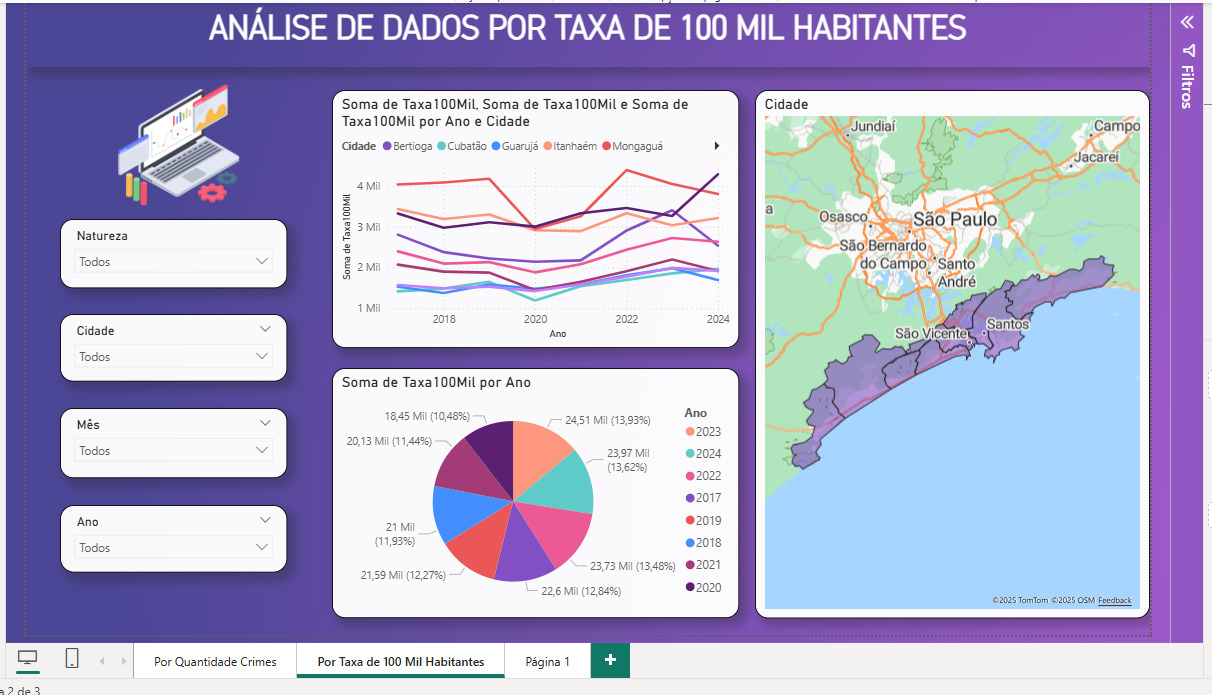

The dashboard page shown, as its layout file describes it:
{"tool":"powerbi","page":{"name":"Por Taxa de 100 Mil Habitantes","canvas":[1280,720],"ordinal":1},"visuals":[{"type":"azureMap","fields":{"Category":["BancoDeDados.Cidade"]},"box":[830.5,99.1,450,601.5],"z":0},{"type":"lineChart","fields":{"Series":["BancoDeDados.Cidade"],"Category":["Crimes.Ano"],"Y":["Sum(Crimes.Taxa100Mil)"]},"box":[348.6,99.1,463.7,293.9],"z":1000},{"type":"pieChart","fields":{"Category":["BancoDeDados.Ano","BancoDeDados.Natureza"],"Y":["Sum(Crimes.Taxa100Mil)"]},"box":[348.6,415.8,463.7,284.8],"z":2000},{"type":"slicer","fields":{"Values":["Crimes.Cidade"]},"box":[38.7,354.3,258.6,77.5],"z":3000},{"type":"slicer","fields":{"Values":["Crimes.Natureza"]},"box":[38.7,246.1,258.6,78.6],"z":4000},{"type":"slicer","fields":{"Values":["Crimes.Mês"]},"box":[38.7,461.4,258.6,79.7],"z":5000},{"type":"slicer","fields":{"Values":["Crimes.Ano"]},"box":[38.7,571.9,258.6,77.5],"z":6000},{"type":"textbox","box":[0,0,1280.5,72.9],"z":7000},{"type":"image","box":[0,86.6,348.6,150.4],"z":8000}]}

Visuals, with their boxes on the page's 1280x720 design canvas (x1, y1, x2, y2). These are canvas units, not pixel positions in the 1212x695 screenshot, which may show the page scaled, cropped or inside an application window:
azureMap - BancoDeDados.Cidade: region(830, 99, 1280, 701)
lineChart - BancoDeDados.Cidade x Crimes.Ano: region(349, 99, 812, 393)
pieChart - BancoDeDados.Ano x BancoDeDados.Natureza: region(349, 416, 812, 701)
slicer - Crimes.Cidade: region(39, 354, 297, 432)
slicer - Crimes.Natureza: region(39, 246, 297, 325)
slicer - Crimes.Mês: region(39, 461, 297, 541)
slicer - Crimes.Ano: region(39, 572, 297, 649)
textbox: region(0, 0, 1280, 73)
image: region(0, 87, 349, 237)
